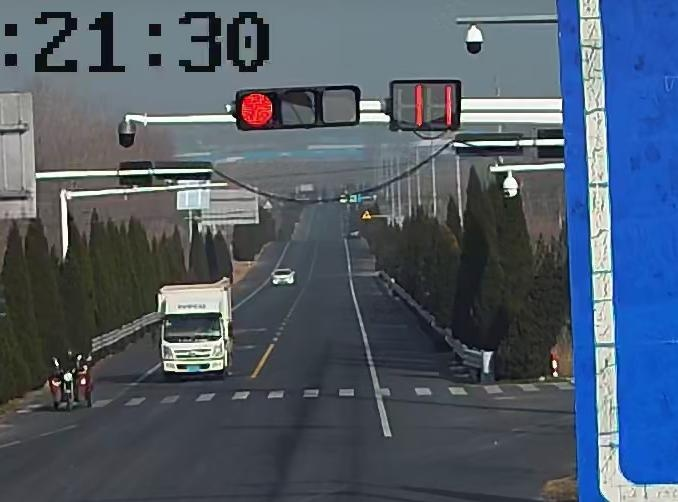red: (240, 91, 275, 129)
redtime: (413, 81, 457, 129)
